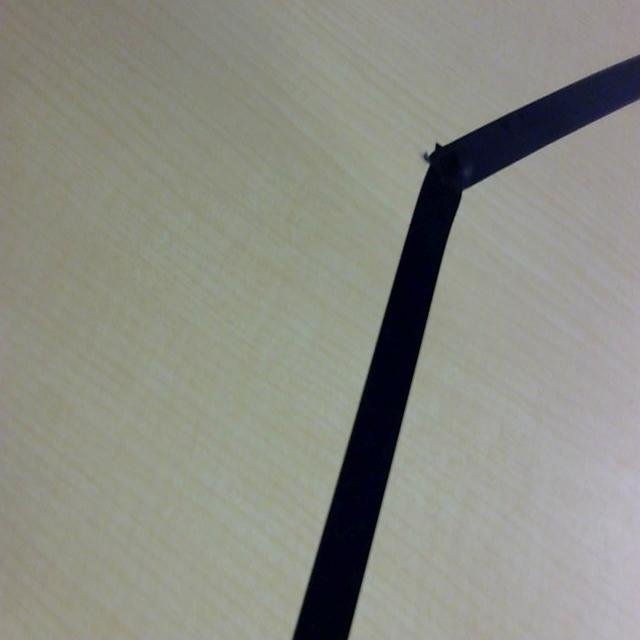tape: (282, 38, 640, 640)
